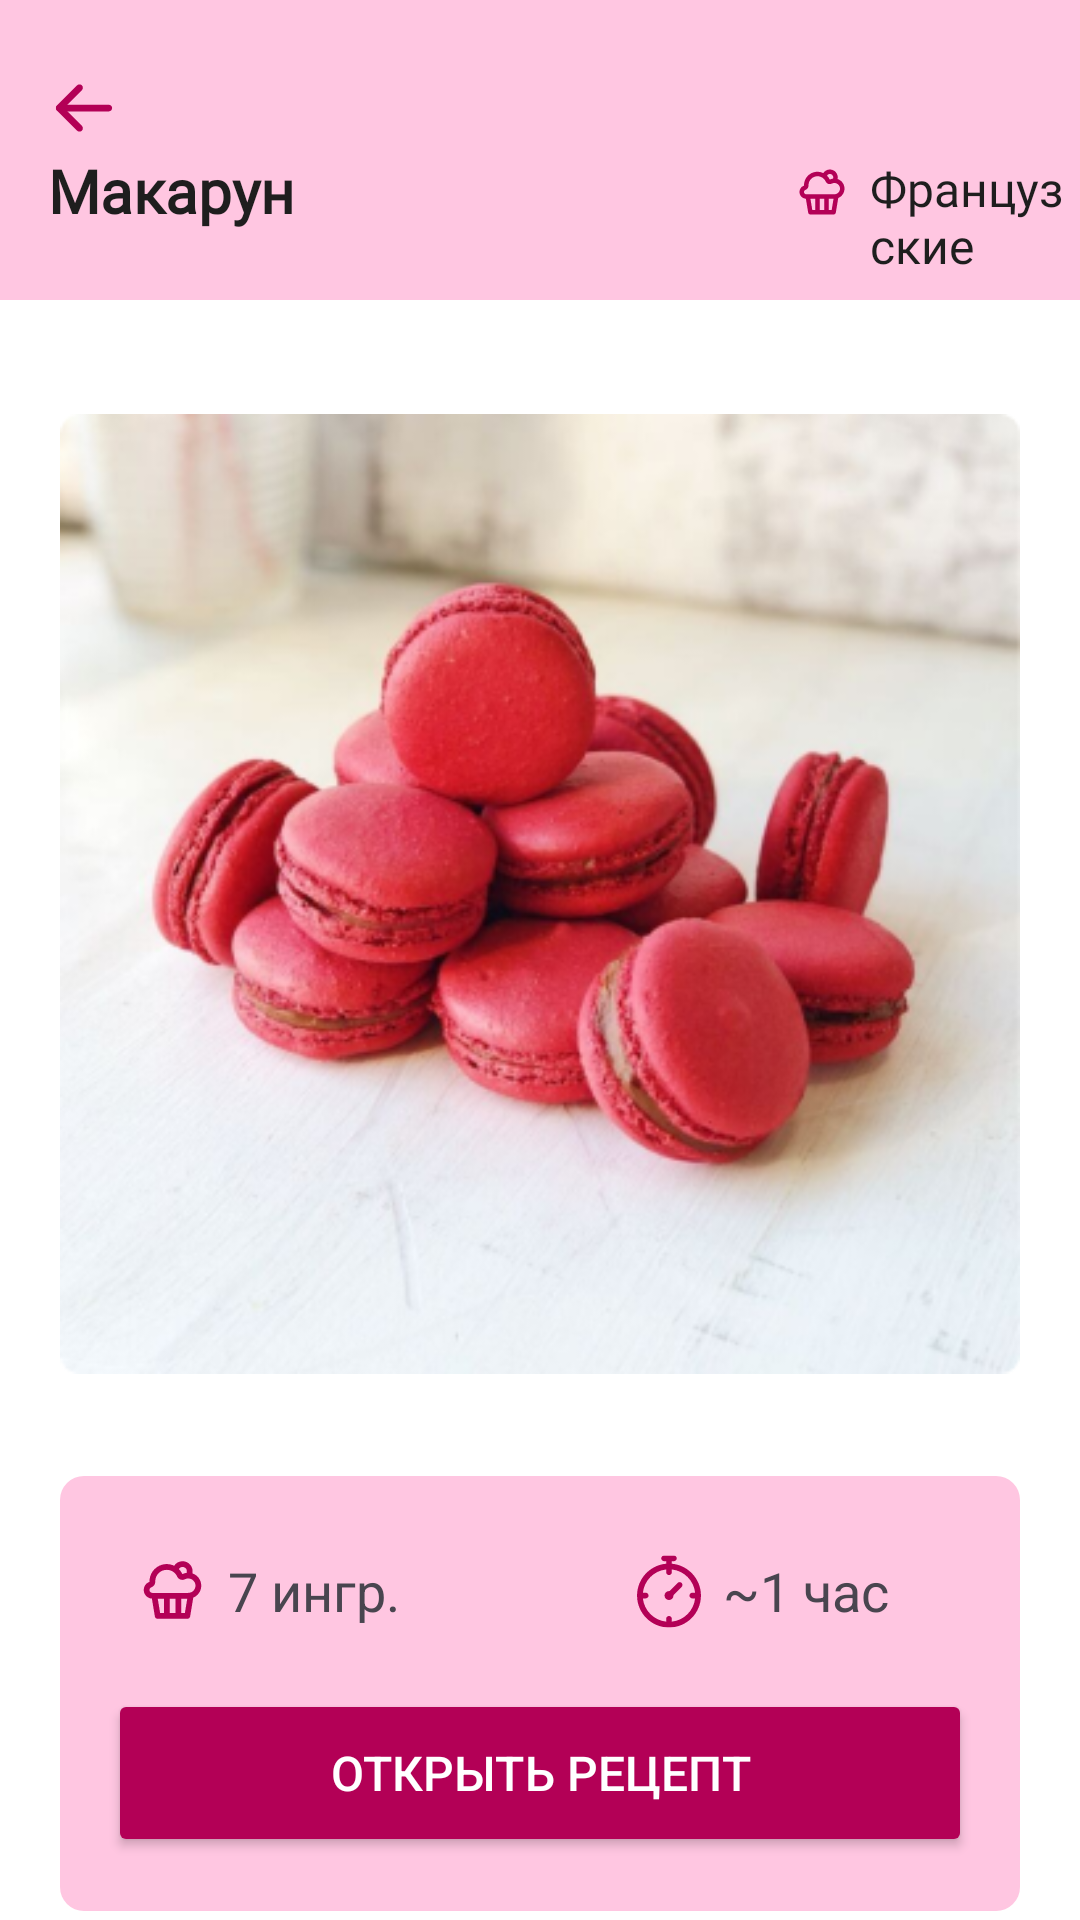

Icon click points for this 1080px×1920px phone screenshot, format (x,y):
cake: (172,1590)
timer: (669,1591)
